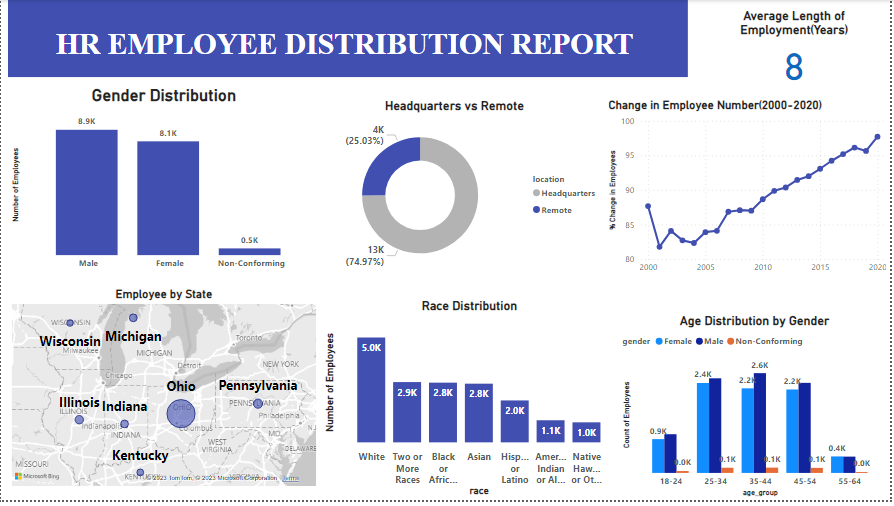

The page's visual inventory and layout, read from the dashboard file:
{"tool":"powerbi","page":{"name":"Page 1","canvas":[1280,720],"ordinal":0},"visuals":[{"type":"textbox","box":[0,0,889.9,87.8],"z":0},{"type":"card","title":"Average Length of Employment(Years)","fields":{"Values":["Sum(avg_length_employment.avg_length_employment)"]},"box":[869.8,0,387.4,123.8],"z":1000},{"type":"columnChart","title":"Gender Distribution","fields":{"Category":["gender.gender"],"Y":["Sum(gender.count)"]},"box":[10.1,100.8,449.3,273.6],"z":2000},{"type":"donutChart","title":"Headquarters vs Remote","fields":{"Y":["Sum(location.count)"],"Category":["location.location"]},"box":[436.3,141.1,433.4,259.2],"z":3000},{"type":"lineChart","title":"Change in Employee Number(2000-2020)","fields":{"Y":["Sum(employee_change.net_change_percentage)"],"Category":["employee_change.Year"]},"box":[869.8,141.1,410.4,262.1],"z":4000},{"type":"map","title":"Employee by State","fields":{"Size":["Sum(states.count)"],"Category":["states.location_state"]},"box":[10.1,413.3,449.3,292.3],"z":5000},{"type":"clusteredColumnChart","title":"Race Distribution ","fields":{"Y":["Sum(race.count)"],"Category":["race.race"]},"box":[459.4,429.1,430.6,290.9],"z":6000},{"type":"clusteredColumnChart","title":"Age Distribution by Gender","fields":{"Category":["age_group_gender.age_group"],"Y":["Sum(age_group_gender.count)"],"Series":["age_group_gender.gender"]},"box":[889.9,450.7,390.2,269.3],"z":7000}]}

Visuals, with their boxes in screenshot pixels (x1, y1, x2, y2), scaled from the page's 1280x720 canvas onto the 894x506 screenshot:
textbox: (0, 0, 622, 62)
"Average Length of Employment(Years)" card: (608, 0, 878, 87)
"Gender Distribution" columnChart: (7, 71, 321, 263)
"Headquarters vs Remote" donutChart: (305, 99, 607, 281)
"Change in Employee Number(2000-2020)" lineChart: (608, 99, 893, 283)
"Employee by State" map: (7, 290, 321, 496)
"Race Distribution " clusteredColumnChart: (321, 302, 622, 505)
"Age Distribution by Gender" clusteredColumnChart: (622, 317, 893, 505)
